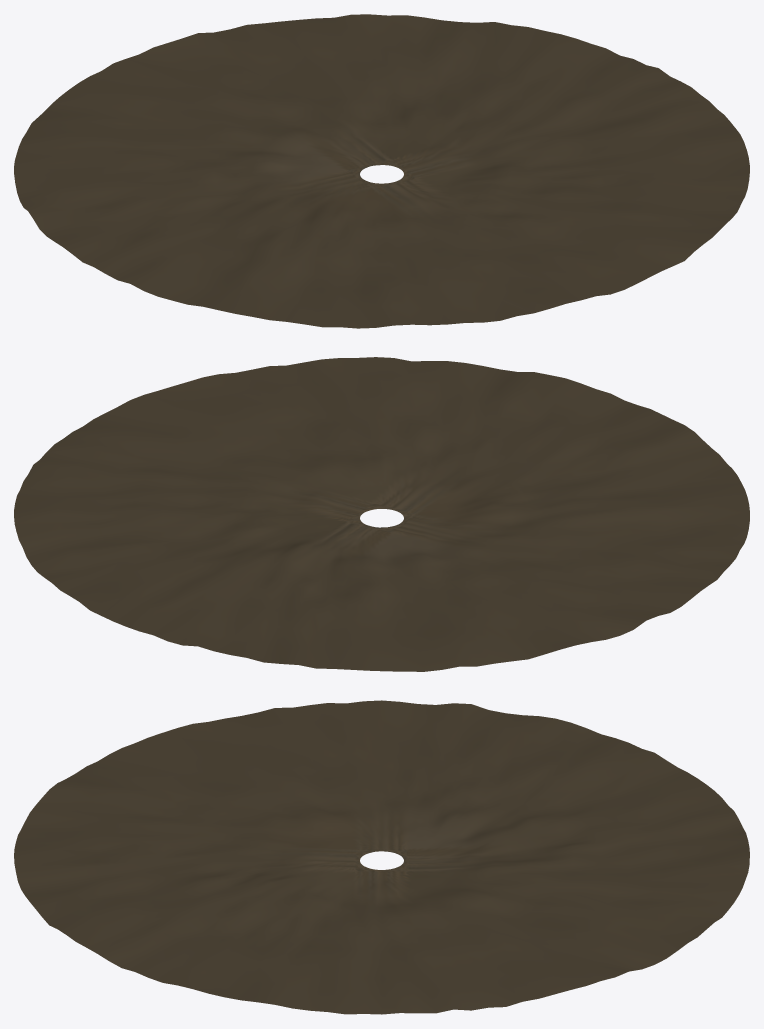
File: aizanoi-zeus-tapinagi-skirt.glb
3 views of the same model, one above another, from view 1: azimuth 30°, elevation 25°; view 2: azimuth 150°, elevation 25°; view 3: azimuth 270°, elevation 25° (orthographic).
Parts seen in each view (by area): view 1: aizanoi-zeus-tapinagi-skirt; view 2: aizanoi-zeus-tapinagi-skirt; view 3: aizanoi-zeus-tapinagi-skirt.
Boxes of the visible parts, x1,y1,x2,y2 form: aizanoi-zeus-tapinagi-skirt: (14,14,749,328); aizanoi-zeus-tapinagi-skirt: (14,357,749,671); aizanoi-zeus-tapinagi-skirt: (14,700,749,1014).
Size of the model in its own units: 8400 by 85.63 by 8400.
